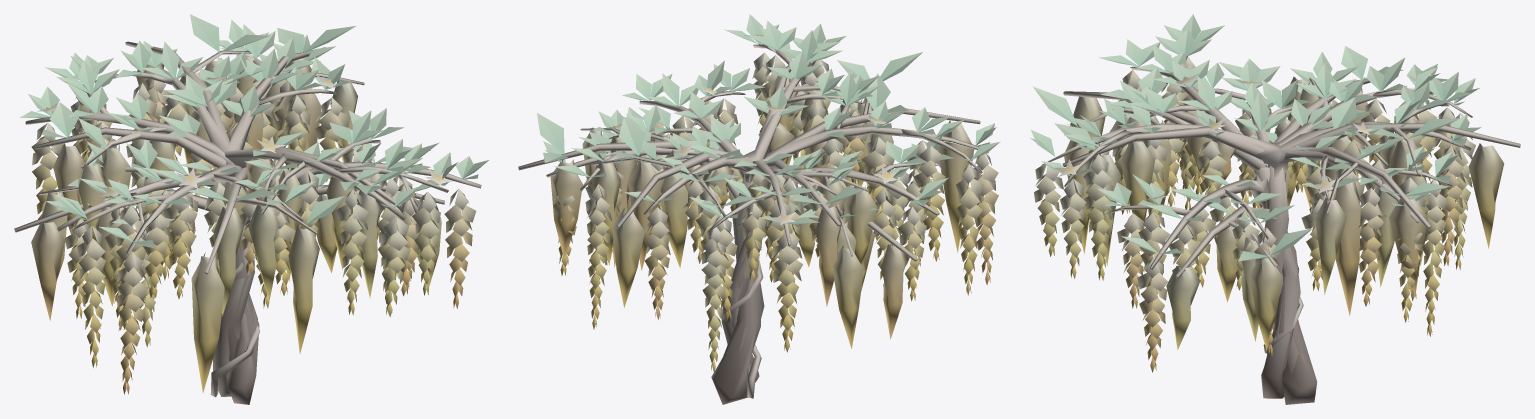
File: golden_chain.glb
3 renders of one model, left to right at view 1: azimuth 30°, elevation 25°; view 2: azimuth 150°, elevation 25°; view 3: azimuth 270°, elevation 25°, orthographic. The views are drawn at different scales.
Visible parts, largest first — view 1: near, far; view 2: near, far; view 3: near, far.
Boxes of the visible parts, bbox=[...] form: near: bbox=[19, 19, 488, 404]; far: bbox=[14, 14, 444, 392]; near: bbox=[543, 14, 1000, 404]; far: bbox=[518, 27, 980, 361]; near: bbox=[1029, 14, 1481, 404]; far: bbox=[1032, 46, 1520, 375].
Bounding box in the file's own units: 7.33 × 5.46 × 7.99.
